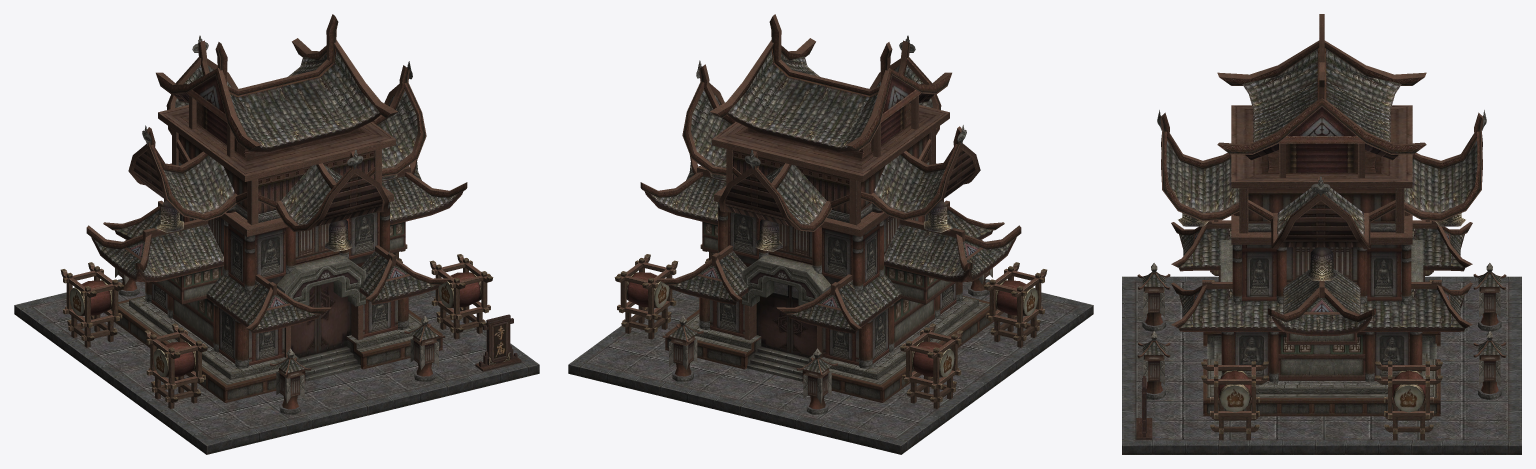
3 views of the same model, side by side, from view 1: azimuth 30°, elevation 25°; view 2: azimuth 150°, elevation 25°; view 3: azimuth 270°, elevation 25° (orthographic). The views are drawn at different scales.
Parts seen in each view (by area): view 1: g_18; view 2: g_18; view 3: g_18.
Part boxes in pixels (x1,y1,x2,y2): g_18: [14, 14, 539, 454]; g_18: [568, 14, 1093, 454]; g_18: [1122, 14, 1521, 454].
Bounding box in the file's own units: 20 × 18.09 × 20.
Materials: 2 (2 with a texture image).
